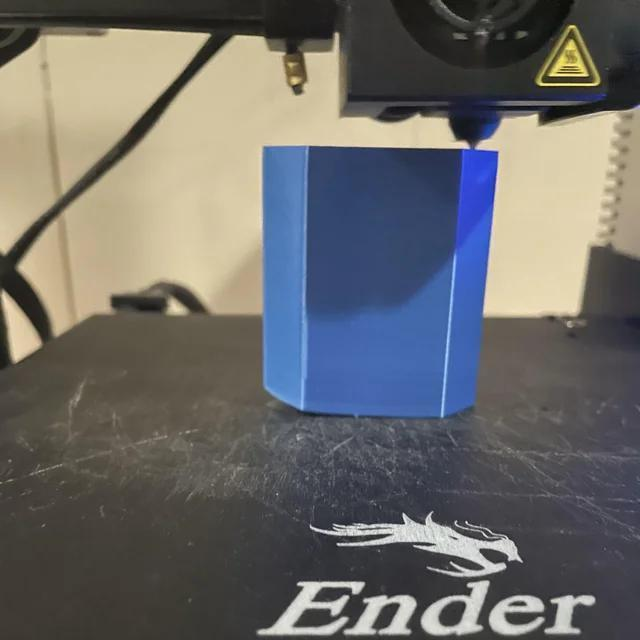Warping: (259, 383, 317, 421)
